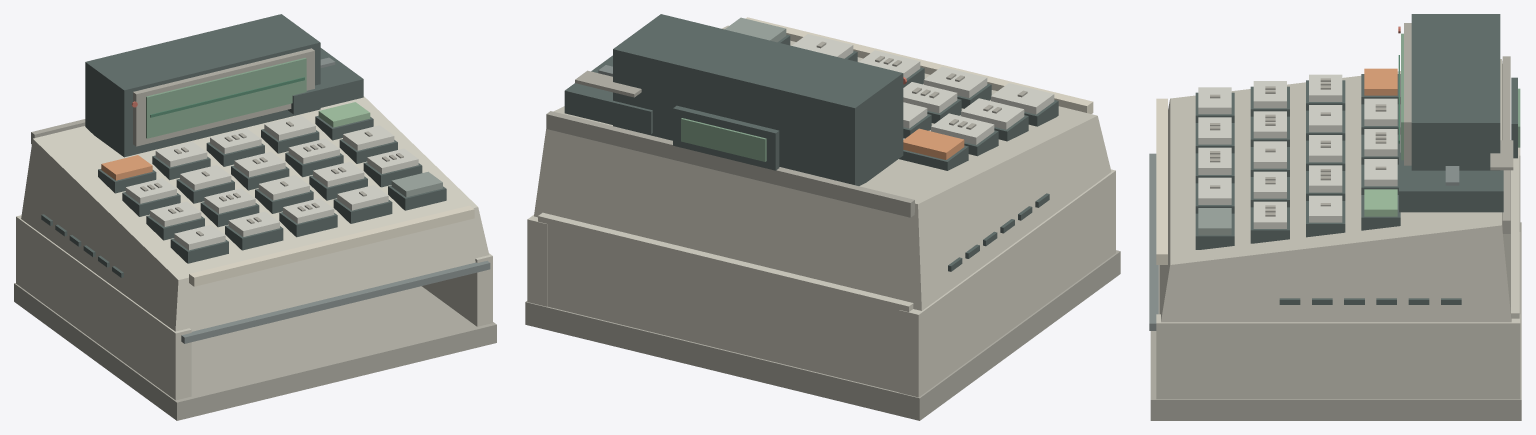
Rendered from cash_register_body.glb.
3 renders of one model, left to right at view 1: azimuth 30°, elevation 25°; view 2: azimuth 150°, elevation 25°; view 3: azimuth 270°, elevation 25°, orthographic. The views are drawn at different scales.
Visible parts, largest first — view 1: CoffeeShift_CashRegister_2010s; view 2: CoffeeShift_CashRegister_2010s; view 3: CoffeeShift_CashRegister_2010s.
Part boxes in pixels (box(x1,y1,x2,y2)): CoffeeShift_CashRegister_2010s: box(14, 14, 496, 420); CoffeeShift_CashRegister_2010s: box(525, 14, 1120, 420); CoffeeShift_CashRegister_2010s: box(1149, 14, 1521, 420).
Bounding box in the file's own units: 0.365 × 0.253 × 0.323.
